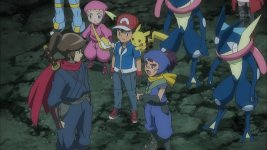greninja: (202, 9, 261, 142), (154, 1, 209, 88)
pikachu: (129, 22, 168, 54)
